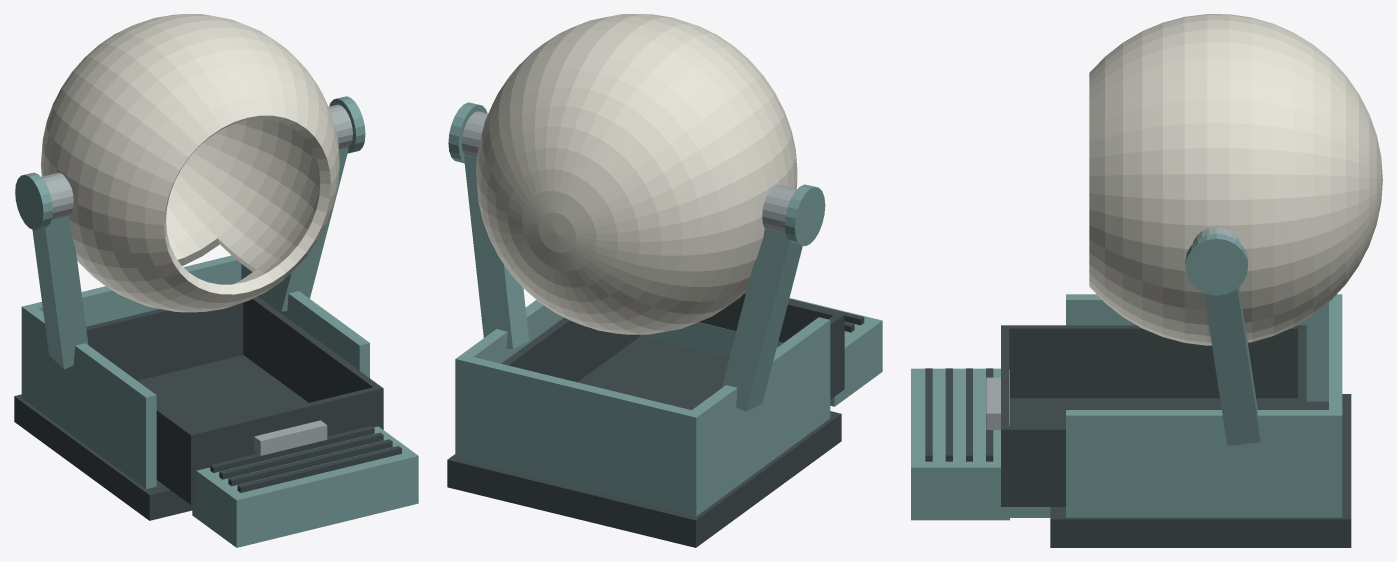
The picture shows the model from 3 angles, left to right: view 1: azimuth 30°, elevation 25°; view 2: azimuth 150°, elevation 25°; view 3: azimuth 270°, elevation 25°; orthographic projection. The views are drawn at different scales.
Visible parts, largest first — view 1: WholeFrontOpenGlobeWithLowerPassage, WholePartWithdrawnEmptyCollectionDrawer, WholeOpenFrontAndTopLowerHousing, WholeFrontLowStep, WholeSideSupport_-1, WholeGroundFootBase, WholeSideSupport_1, WholeOuterTrunnionCap_-1, WholeDrawerFrontGrip, WholeStepTread_2, WholeStepTread_0, WholeStepTread_1 (+4 smaller); view 2: WholeFrontOpenGlobeWithLowerPassage, WholeOpenFrontAndTopLowerHousing, WholePartWithdrawnEmptyCollectionDrawer, WholeGroundFootBase, WholeSideSupport_-1, WholeSideSupport_1, WholeFrontLowStep, WholeOuterTrunnionCap_-1, WholeSideTrunnion_-1, WholeOuterTrunnionCap_1, WholeSideTrunnion_1; view 3: WholeFrontOpenGlobeWithLowerPassage, WholeOpenFrontAndTopLowerHousing, WholePartWithdrawnEmptyCollectionDrawer, WholeFrontLowStep, WholeGroundFootBase, WholeSideSupport_1, WholeOuterTrunnionCap_1, WholeDrawerFrontGrip, WholeStepTread_0, WholeStepTread_1, WholeStepTread_2.
Part boxes in pixels (bbox=[...]): WholeFrontOpenGlobeWithLowerPassage: bbox=[41, 14, 339, 312]; WholePartWithdrawnEmptyCollectionDrawer: bbox=[86, 296, 383, 504]; WholeOpenFrontAndTopLowerHousing: bbox=[21, 255, 369, 488]; WholeFrontLowStep: bbox=[192, 426, 418, 547]; WholeSideSupport_-1: bbox=[32, 215, 88, 369]; WholeGroundFootBase: bbox=[14, 394, 192, 520]; WholeSideSupport_1: bbox=[266, 147, 348, 311]; WholeOuterTrunnionCap_-1: bbox=[15, 172, 52, 229]; WholeDrawerFrontGrip: bbox=[254, 420, 327, 455]; WholeStepTread_2: bbox=[219, 432, 383, 479]; WholeStepTread_0: bbox=[237, 446, 401, 492]; WholeStepTread_1: bbox=[228, 439, 392, 486]; WholeFrontOpenGlobeWithLowerPassage: bbox=[476, 14, 797, 334]; WholeOpenFrontAndTopLowerHousing: bbox=[455, 300, 830, 516]; WholePartWithdrawnEmptyCollectionDrawer: bbox=[501, 291, 844, 410]; WholeGroundFootBase: bbox=[447, 411, 841, 547]; WholeSideSupport_-1: bbox=[722, 228, 802, 411]; WholeSideSupport_1: bbox=[464, 155, 529, 348]; WholeFrontLowStep: bbox=[640, 298, 882, 406]; WholeOuterTrunnionCap_-1: bbox=[784, 184, 825, 246]; WholeSideTrunnion_-1: bbox=[762, 184, 796, 232]; WholeOuterTrunnionCap_1: bbox=[448, 102, 487, 163]; WholeSideTrunnion_1: bbox=[462, 111, 487, 157]; WholeFrontOpenGlobeWithLowerPassage: bbox=[1089, 14, 1382, 345]; WholeOpenFrontAndTopLowerHousing: bbox=[1066, 294, 1342, 517]; WholePartWithdrawnEmptyCollectionDrawer: bbox=[1001, 325, 1306, 506]; WholeFrontLowStep: bbox=[911, 368, 1009, 520]; WholeGroundFootBase: bbox=[1050, 394, 1351, 547]; WholeSideSupport_1: bbox=[1204, 287, 1260, 445]; WholeOuterTrunnionCap_1: bbox=[1185, 233, 1247, 295]; WholeDrawerFrontGrip: bbox=[986, 377, 1000, 429]; WholeStepTread_0: bbox=[925, 368, 932, 461]; WholeStepTread_1: bbox=[945, 368, 952, 461]; WholeStepTread_2: bbox=[966, 368, 972, 461].
Size of the model in its own units: 0.92 by 1.12 by 1.05.
